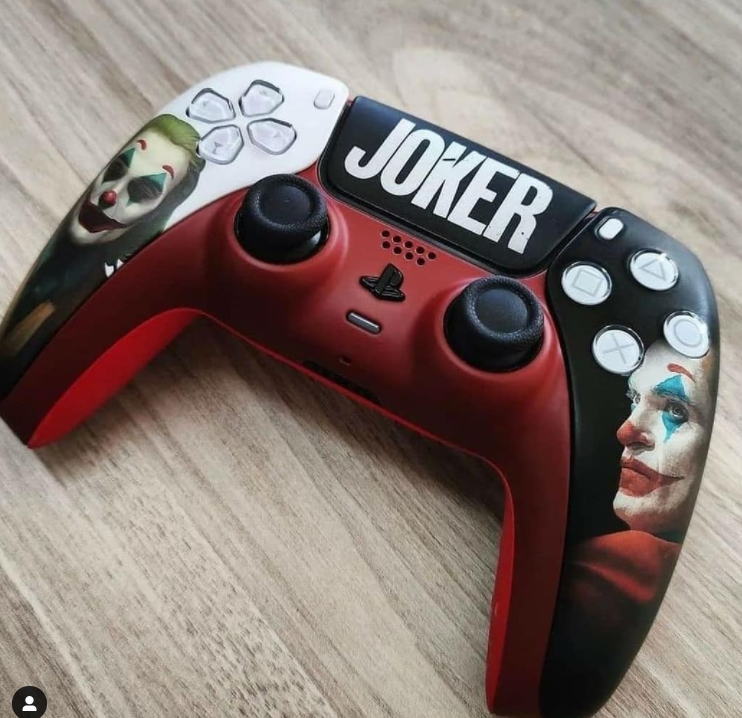gamingconsole: (9, 63, 720, 718)
